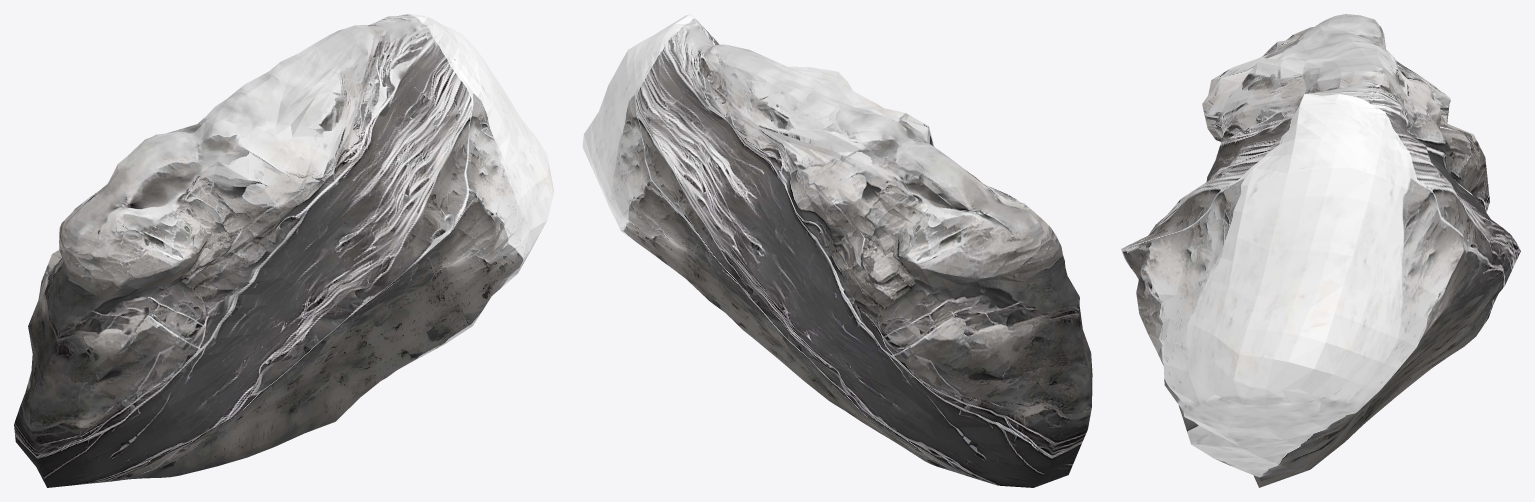
The picture shows the model from 3 angles, left to right: view 1: azimuth 30°, elevation 25°; view 2: azimuth 150°, elevation 25°; view 3: azimuth 270°, elevation 25°; orthographic projection. The views are drawn at different scales.
Parts seen in each view (by area): view 1: StoneD; view 2: StoneD; view 3: StoneD.
Part boxes in pixels (box(x1,y1,x2,y2)): StoneD: box(14, 14, 553, 487); StoneD: box(582, 14, 1092, 487); StoneD: box(1121, 14, 1520, 487).
Size of the model in its own units: 0.8314 by 0.5935 by 0.4291.
1 material, 1 textured.
